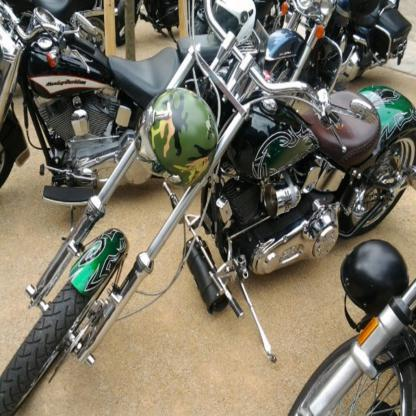motorcycle: (1, 1, 268, 232), (292, 280, 416, 416), (265, 1, 413, 92), (1, 1, 113, 62), (110, 1, 203, 47)
